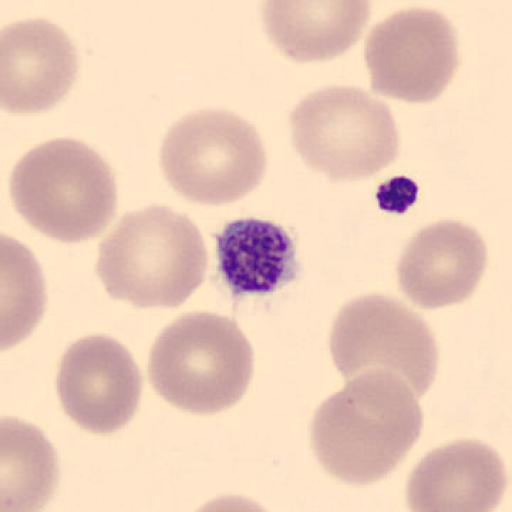Platelet: (213, 214, 305, 298), (372, 172, 422, 216)
RBC: (307, 368, 425, 488), (326, 290, 440, 404), (94, 202, 209, 312), (8, 135, 119, 246), (146, 309, 256, 417), (156, 105, 270, 208), (287, 83, 401, 184), (362, 5, 461, 105), (54, 330, 144, 436), (395, 216, 490, 312), (1, 16, 81, 117), (404, 436, 508, 512), (259, 0, 373, 66), (2, 413, 62, 512), (2, 232, 48, 352), (178, 492, 286, 512)
